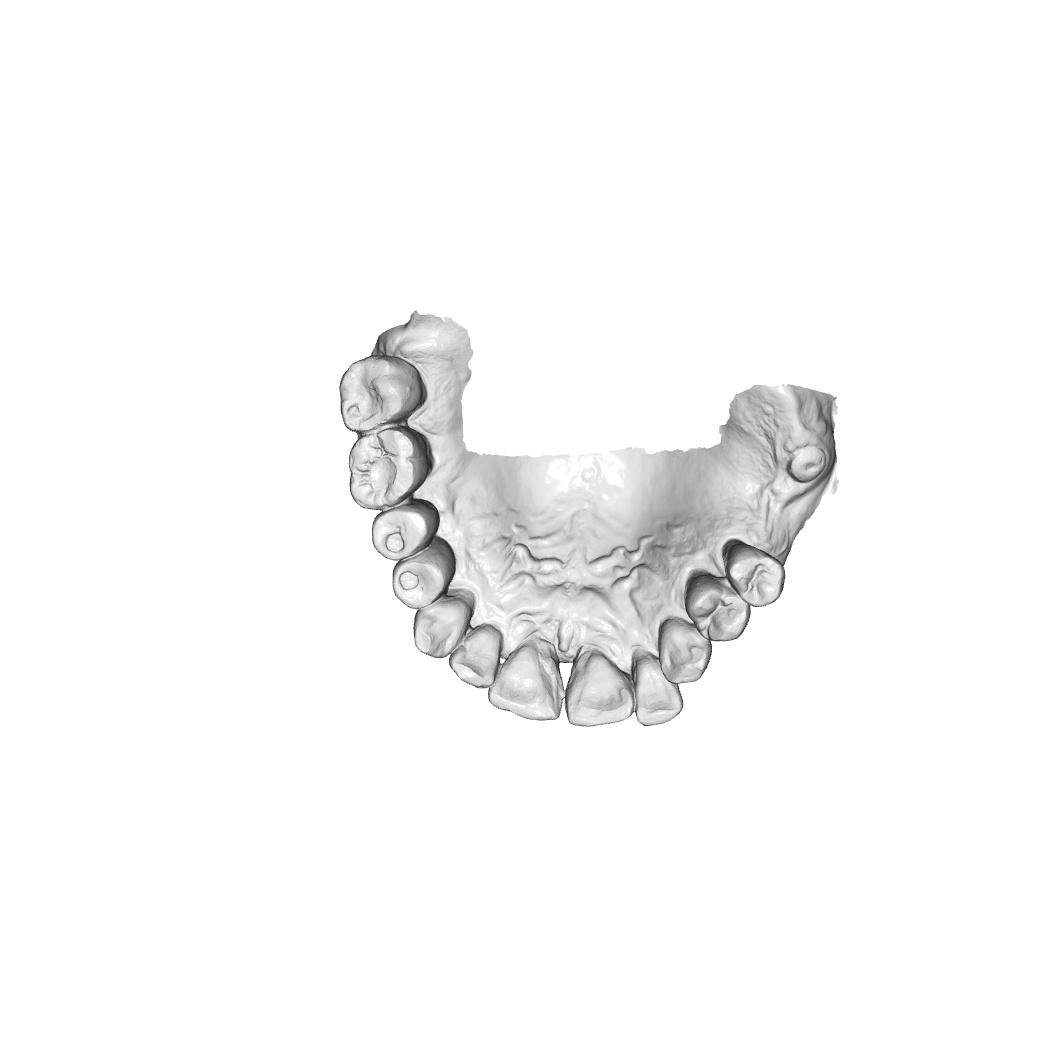canine: (653, 620, 713, 685), (410, 597, 470, 660)
implant: (783, 441, 833, 485)
incisor: (485, 645, 562, 726), (560, 648, 636, 729), (628, 662, 685, 729), (447, 623, 500, 692)
molar: (344, 430, 437, 511), (337, 353, 428, 435)
premolar: (683, 572, 753, 647), (723, 539, 786, 608), (387, 554, 454, 612), (370, 504, 434, 563)
